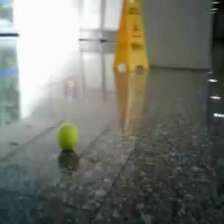tennis: (56, 123, 78, 150)
